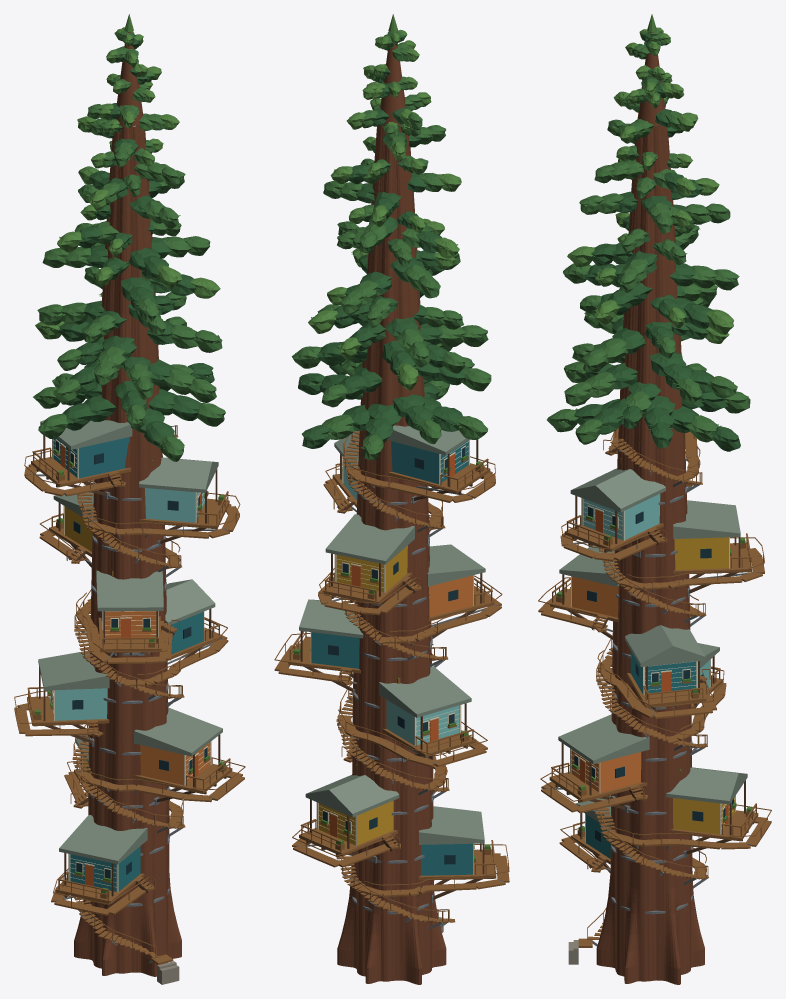
Rendered from village_tree.glb.
3 views of the same model, side by side, from view 1: azimuth 30°, elevation 25°; view 2: azimuth 150°, elevation 25°; view 3: azimuth 270°, elevation 25° (orthographic).
Visible parts, largest first — view 1: village_tree; view 2: village_tree; view 3: village_tree.
Boxes of the visible parts, x1,y1,x2,y2 form: village_tree: (14,14,245,984); village_tree: (274,14,509,984); village_tree: (538,14,771,984).
Size of the model in its own units: 21.07 by 94.2 by 21.01.
